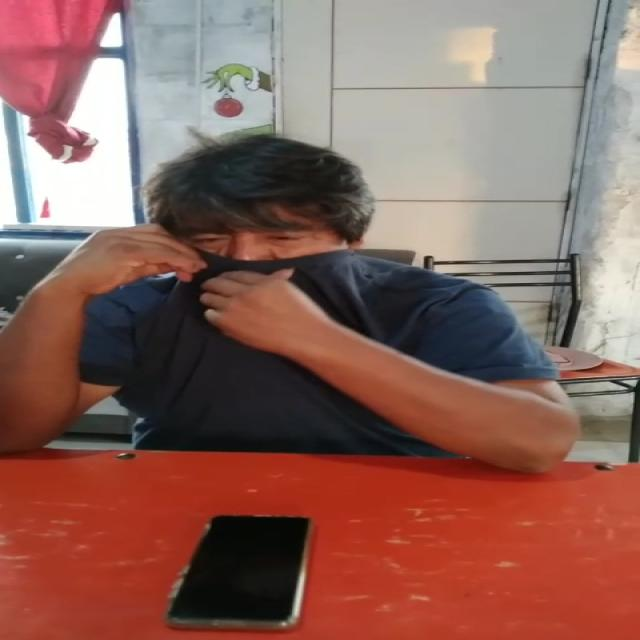8_ropa_rostro: (136, 240, 394, 356)
